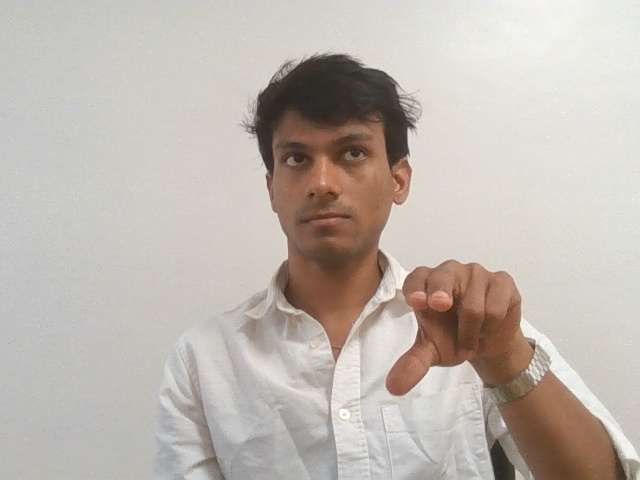No: (386, 243, 521, 402)
